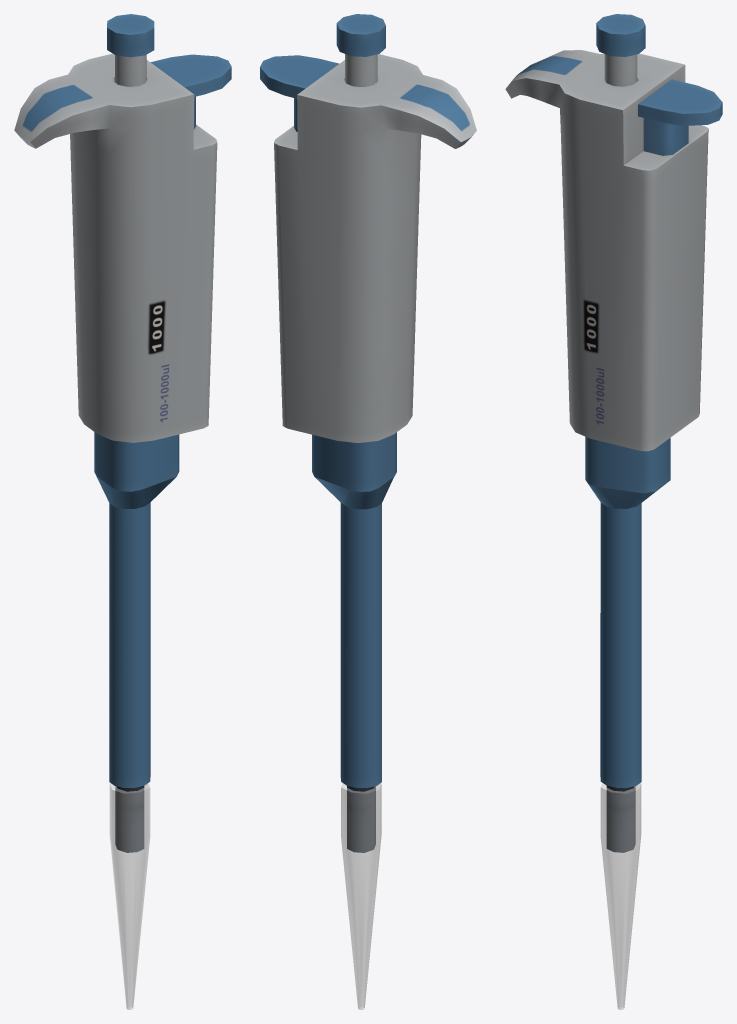
File: 加样器.glb
3 views of the same model, side by side, from view 1: azimuth 30°, elevation 25°; view 2: azimuth 150°, elevation 25°; view 3: azimuth 330°, elevation 25° (orthographic).
Visible parts, largest first — view 1: 移液枪, 移液枪.002, 移液枪.001; view 2: 移液枪, 移液枪.002, 移液枪.001; view 3: 移液枪, 移液枪.001, 移液枪.002.
Part boxes in pixels (left/top/right/bottom): 移液枪: left=14, top=53, right=217, bottom=1009; 移液枪.002: left=107, top=14, right=154, bottom=86; 移液枪.001: left=150, top=54, right=231, bottom=128; 移液枪: left=274, top=54, right=476, bottom=1009; 移液枪.002: left=336, top=14, right=385, bottom=86; 移液枪.001: left=260, top=55, right=338, bottom=131; 移液枪: left=505, top=50, right=708, bottom=1009; 移液枪.001: left=638, top=79, right=722, bottom=155; 移液枪.002: left=596, top=14, right=645, bottom=86.
Size of the model in its own units: 0.1225 by 0.5542 by 0.0636.
1 material, 1 textured.
